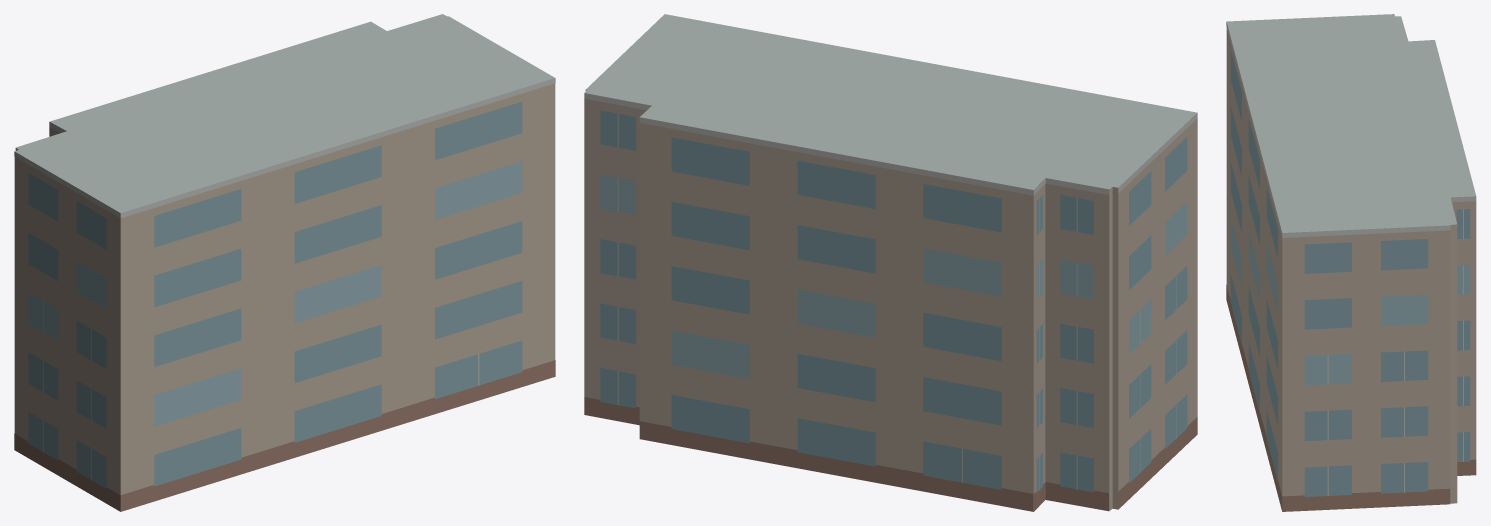
Rendered from survey-upis-32664184.glb.
The picture shows the model from 3 angles, left to right: view 1: azimuth 30°, elevation 25°; view 2: azimuth 150°, elevation 25°; view 3: azimuth 270°, elevation 25°; orthographic projection. The views are drawn at different scales.
Visible parts, largest first — view 1: survey-upis-32664184.tmp; view 2: survey-upis-32664184.tmp; view 3: survey-upis-32664184.tmp.
Boxes of the visible parts, <box> form: survey-upis-32664184.tmp: <box>14,14,555,511</box>; survey-upis-32664184.tmp: <box>584,14,1197,511</box>; survey-upis-32664184.tmp: <box>1226,14,1476,511</box>.
Bounding box in the file's own units: 23.43 × 13.9 × 11.3.
